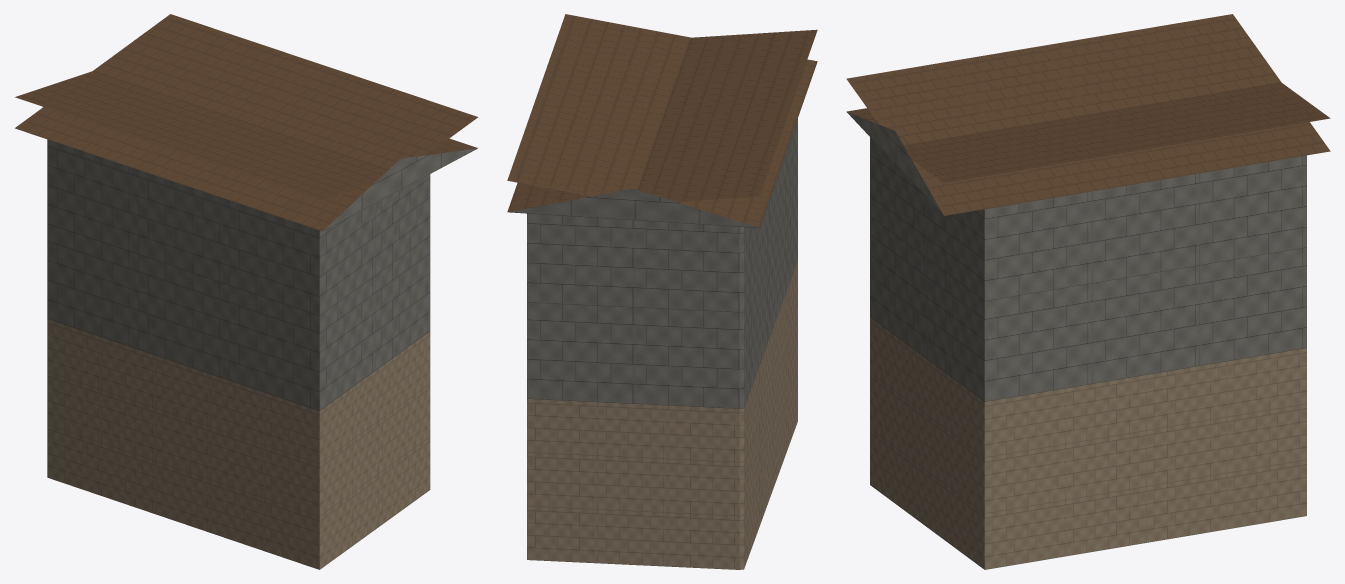
File: bld_c14_15_480.gltf
3 views of the same model, side by side, from view 1: azimuth 30°, elevation 25°; view 2: azimuth 150°, elevation 25°; view 3: azimuth 270°, elevation 25° (orthographic). The views are drawn at different scales.
Visible parts, largest first — view 1: bld_c14_15_480; view 2: bld_c14_15_480; view 3: bld_c14_15_480.
Part boxes in pixels (x1,y1,x2,y2): bld_c14_15_480: (15, 14, 477, 569); bld_c14_15_480: (507, 14, 817, 569); bld_c14_15_480: (846, 14, 1330, 569).
Bounding box in the file's own units: 11.01 × 12.2 × 13.33.
4 materials, 4 textured.
